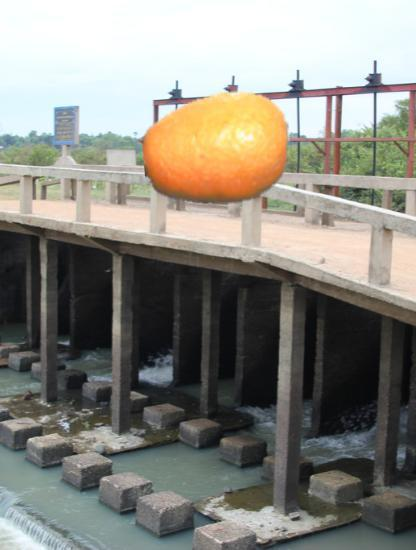Kumquats: (143, 75, 291, 223)
